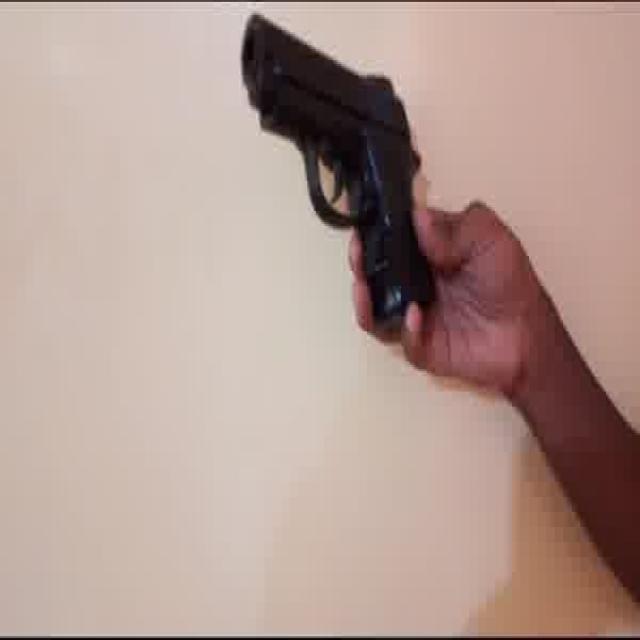weapon: (240, 12, 435, 330)
